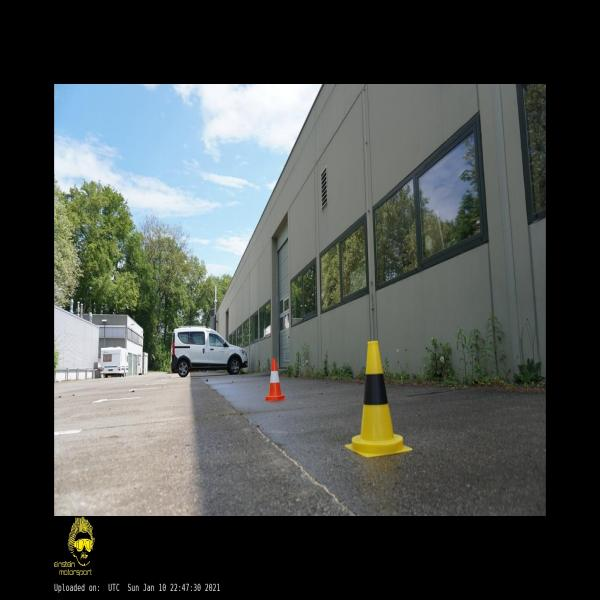orange_cone: (264, 358, 286, 401)
yellow_cone: (345, 341, 413, 457)
